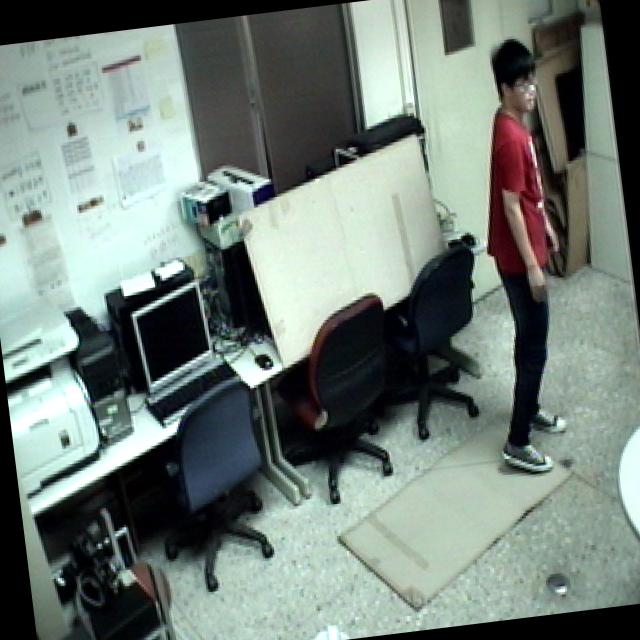stand: (440, 19, 604, 494)
